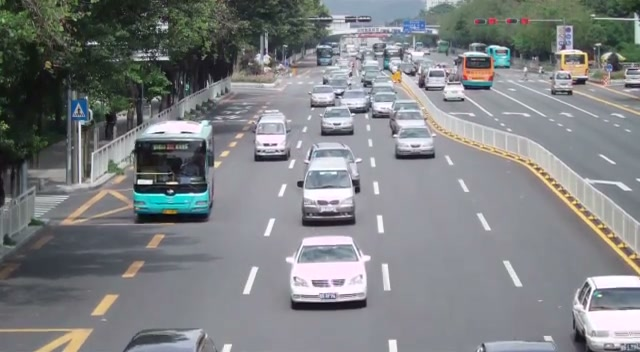bus: (132, 119, 216, 220), (460, 52, 495, 89), (485, 45, 511, 68)
car: (286, 234, 371, 310), (571, 275, 640, 351), (299, 156, 357, 225), (304, 141, 361, 191), (122, 327, 220, 352), (253, 111, 291, 161), (393, 125, 436, 159), (475, 335, 559, 352), (388, 99, 426, 136), (319, 106, 355, 135), (339, 88, 370, 114), (370, 91, 397, 118), (309, 86, 336, 108), (550, 71, 574, 95), (424, 68, 447, 91), (442, 85, 464, 101)
pedestrian: (602, 61, 613, 85)
truck: (555, 49, 589, 84), (624, 64, 640, 88)
